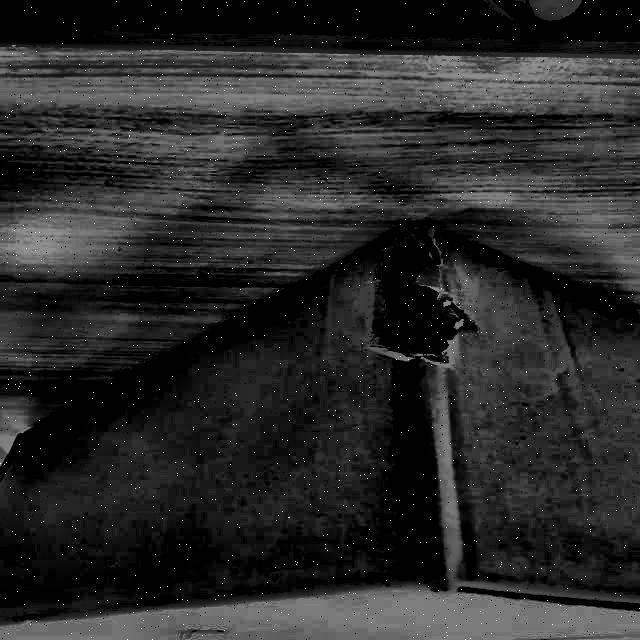box: (1, 210, 639, 640)
hole: (363, 235, 485, 365)
